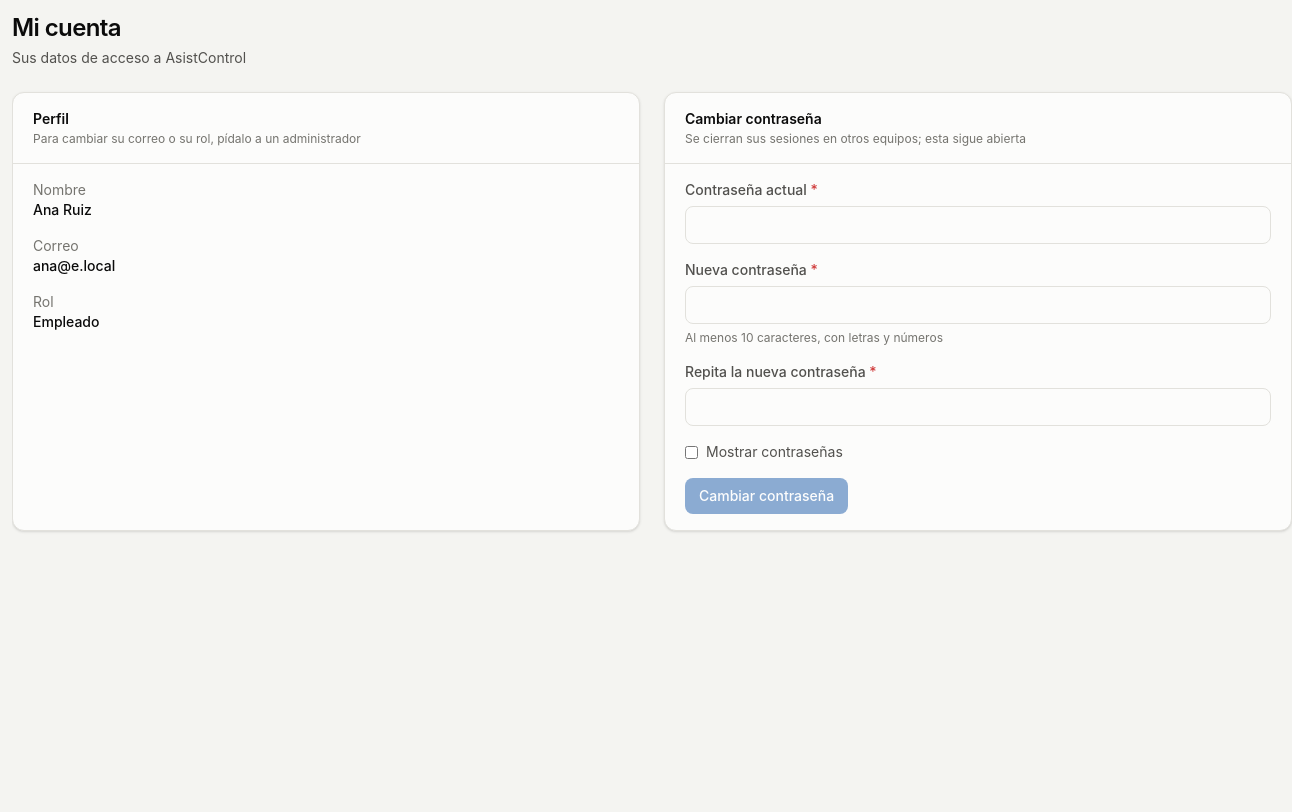
Test case: AccountPage › says what is wrong before submitting
In the password field labelled "Contraseña actual": (978, 225) [685, 206, 1271, 244], type "Clave-Actual-2026"
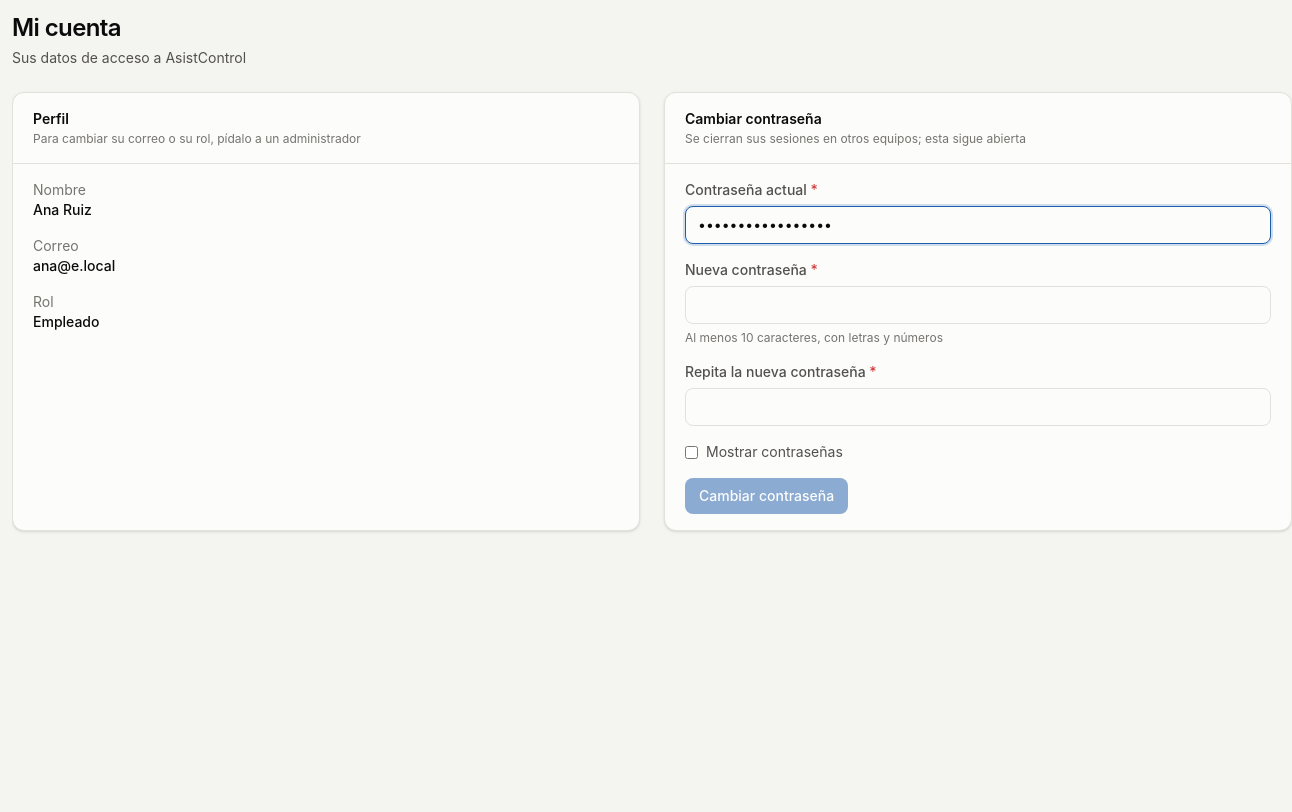
In the password field labelled "Nueva contraseña": (978, 305) [685, 286, 1271, 324], type "Clave-Nueva-2026"
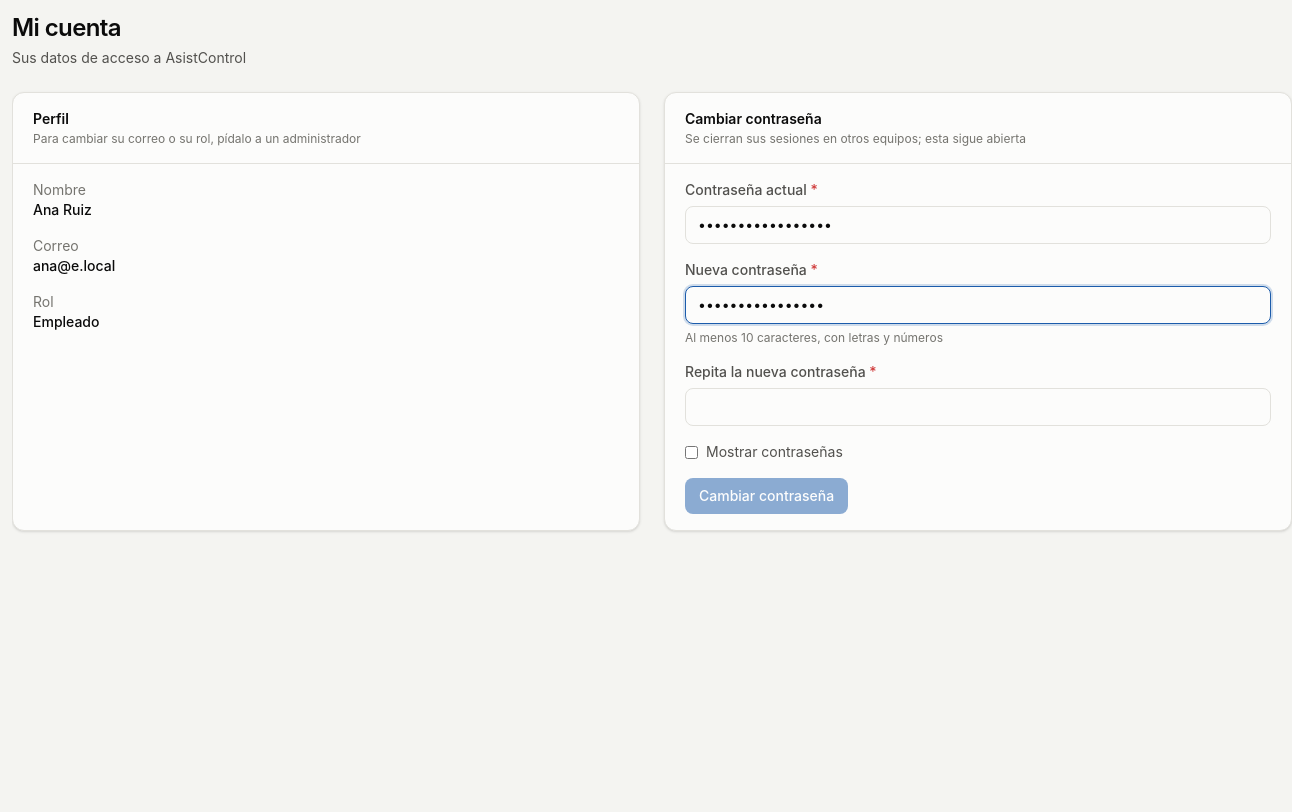
In the password field labelled "Repita la nueva contraseña": (978, 407) [685, 388, 1271, 426], type "Clave-Otra-2026"
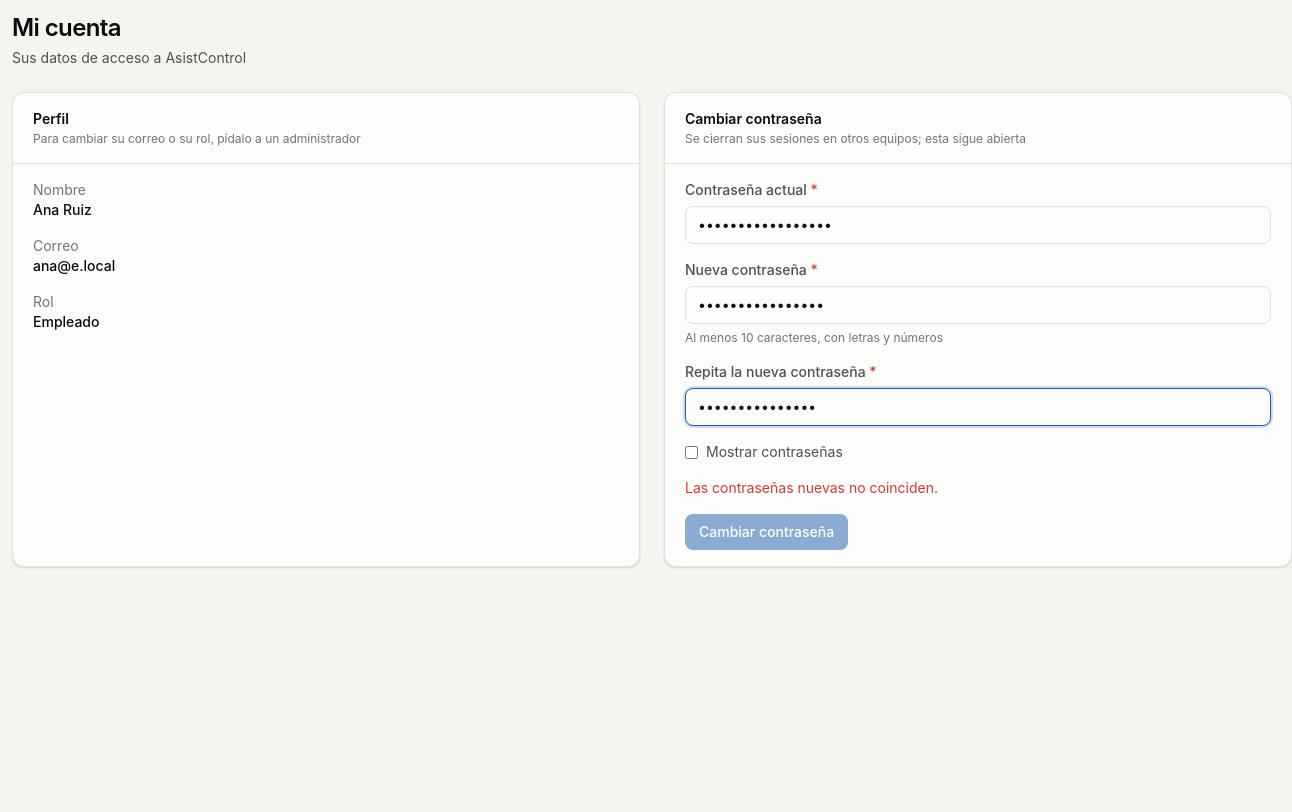
Expected: the button "Cambiar contraseña" is disabled, [685, 514, 848, 550]
Now the message shows "no coinciden", box [685, 479, 938, 496]
In the password field labelled "Nueva contraseña": (978, 305) [685, 286, 1271, 324], type "Clave-Actual-2026"
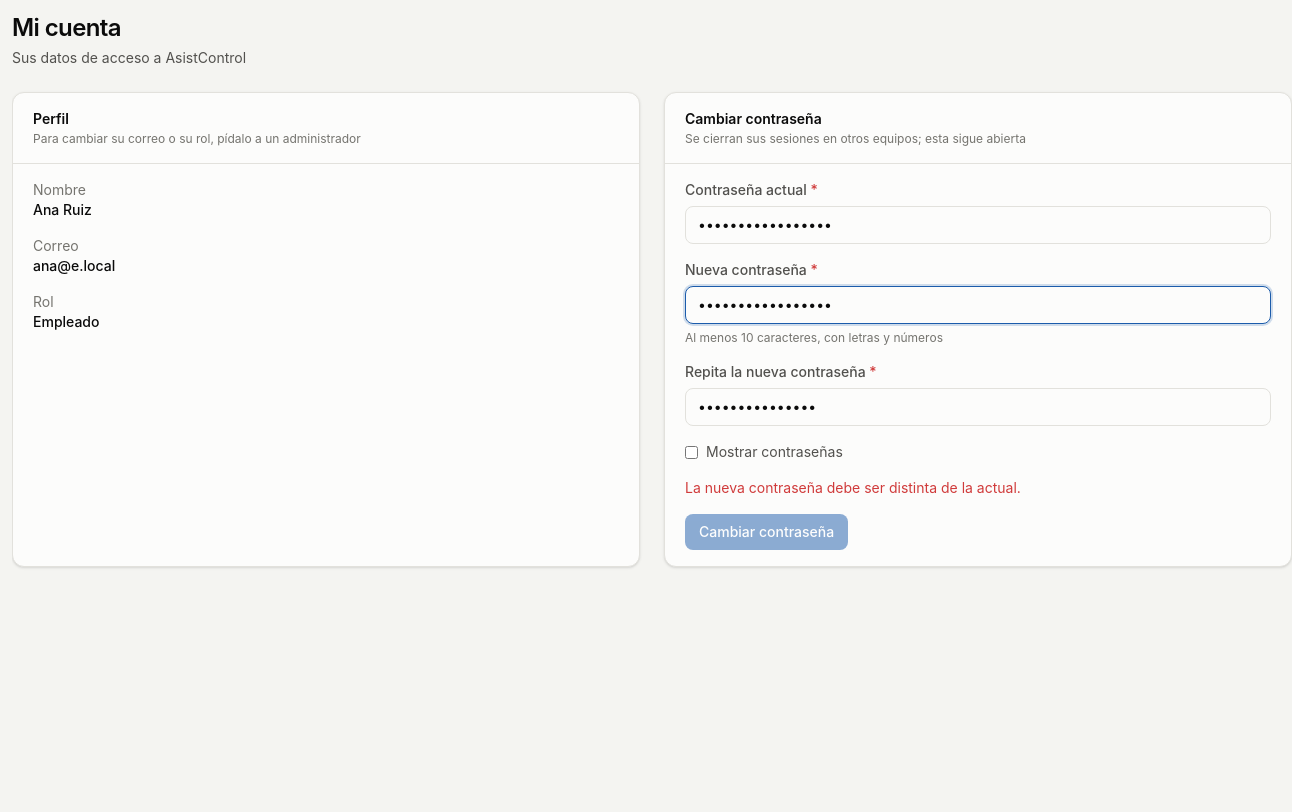
Expected: the button "Cambiar contraseña" is disabled, [685, 514, 848, 550]
Now the message shows "distinta de la actual", box [685, 479, 1021, 496]
